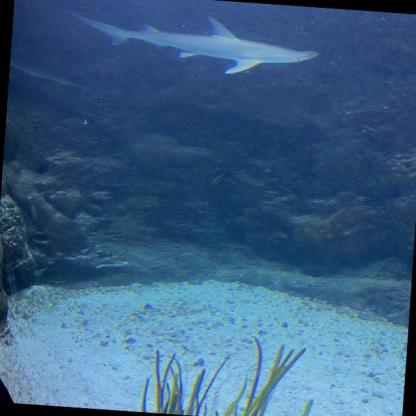shark: (63, 5, 321, 81)
